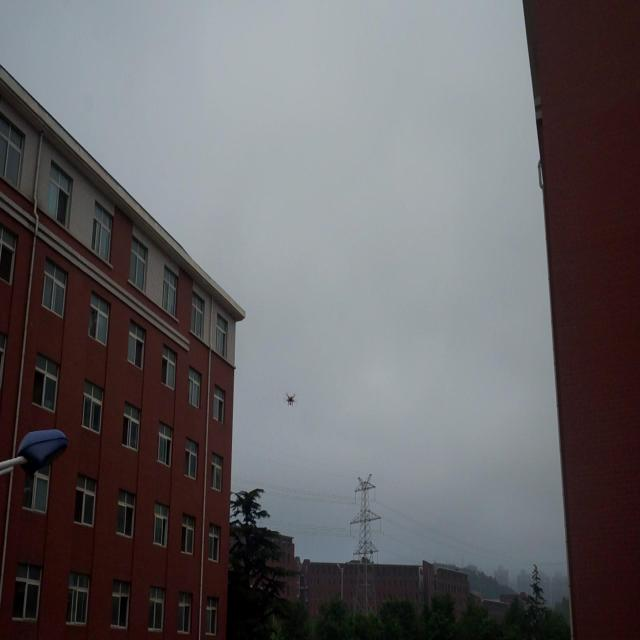drone: (284, 387, 298, 408)
